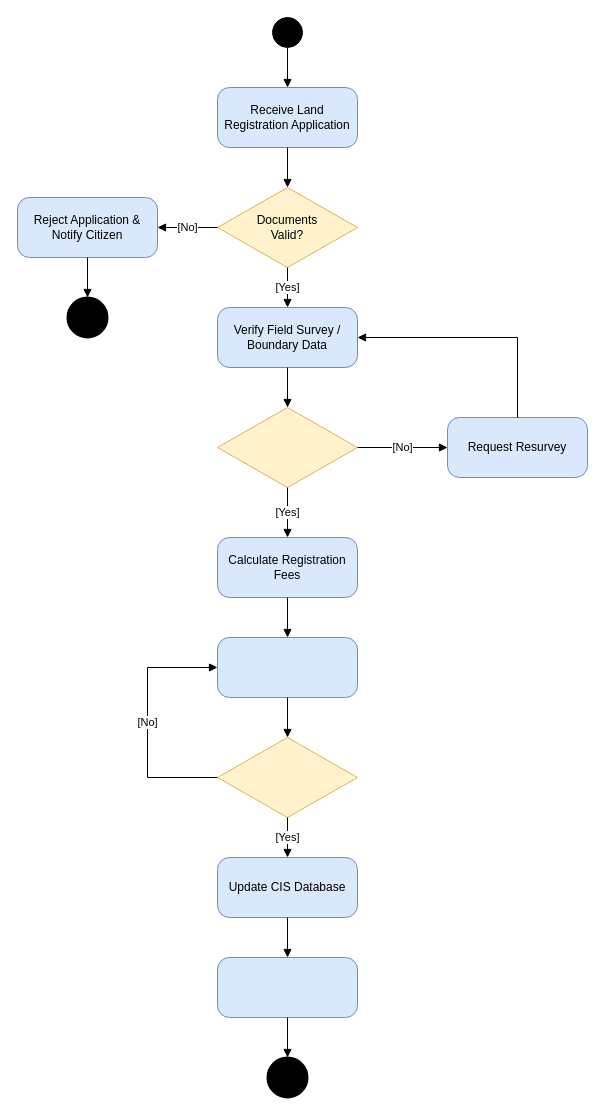
Some shapes in this 605 by 1116 pixel diagram are drawn without their labels. Each missing label, with the centre of its shape:
"Generate Digital Certificate" belongs at (287,987).
"Payment Completed?" belongs at (287,777).
"Survey Data Accurate?" belongs at (287,447).
"Wait for Citizen Payment" belongs at (287,667).
